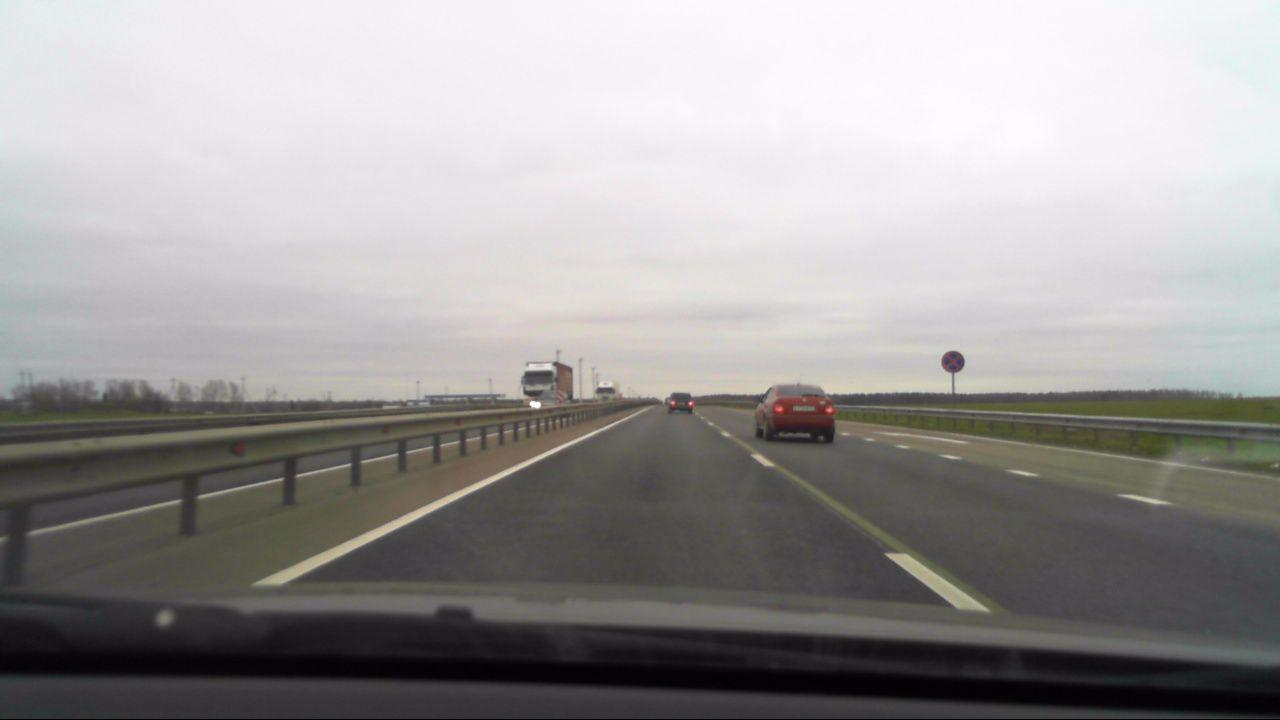3_27: (940, 349, 965, 373)
